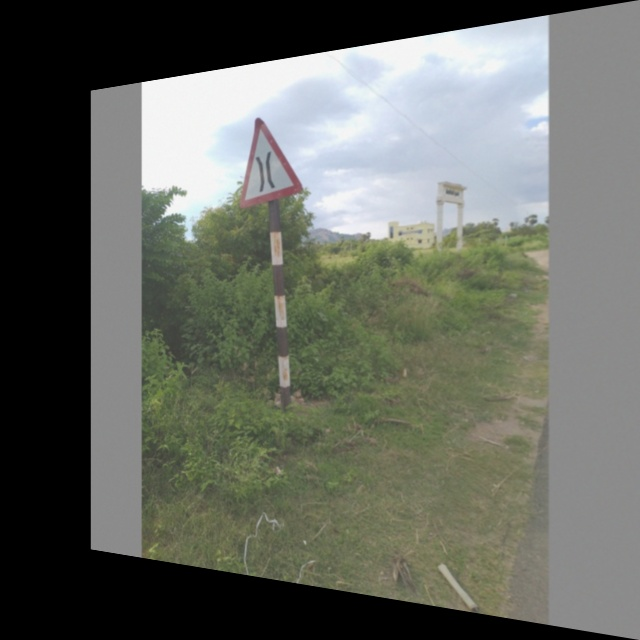Narrow_Bridge: (231, 106, 309, 206)
